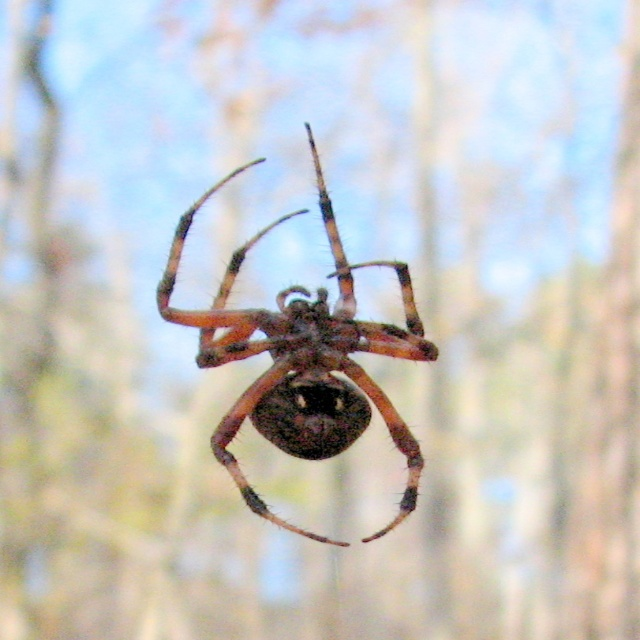Spider: (156, 120, 440, 547)
